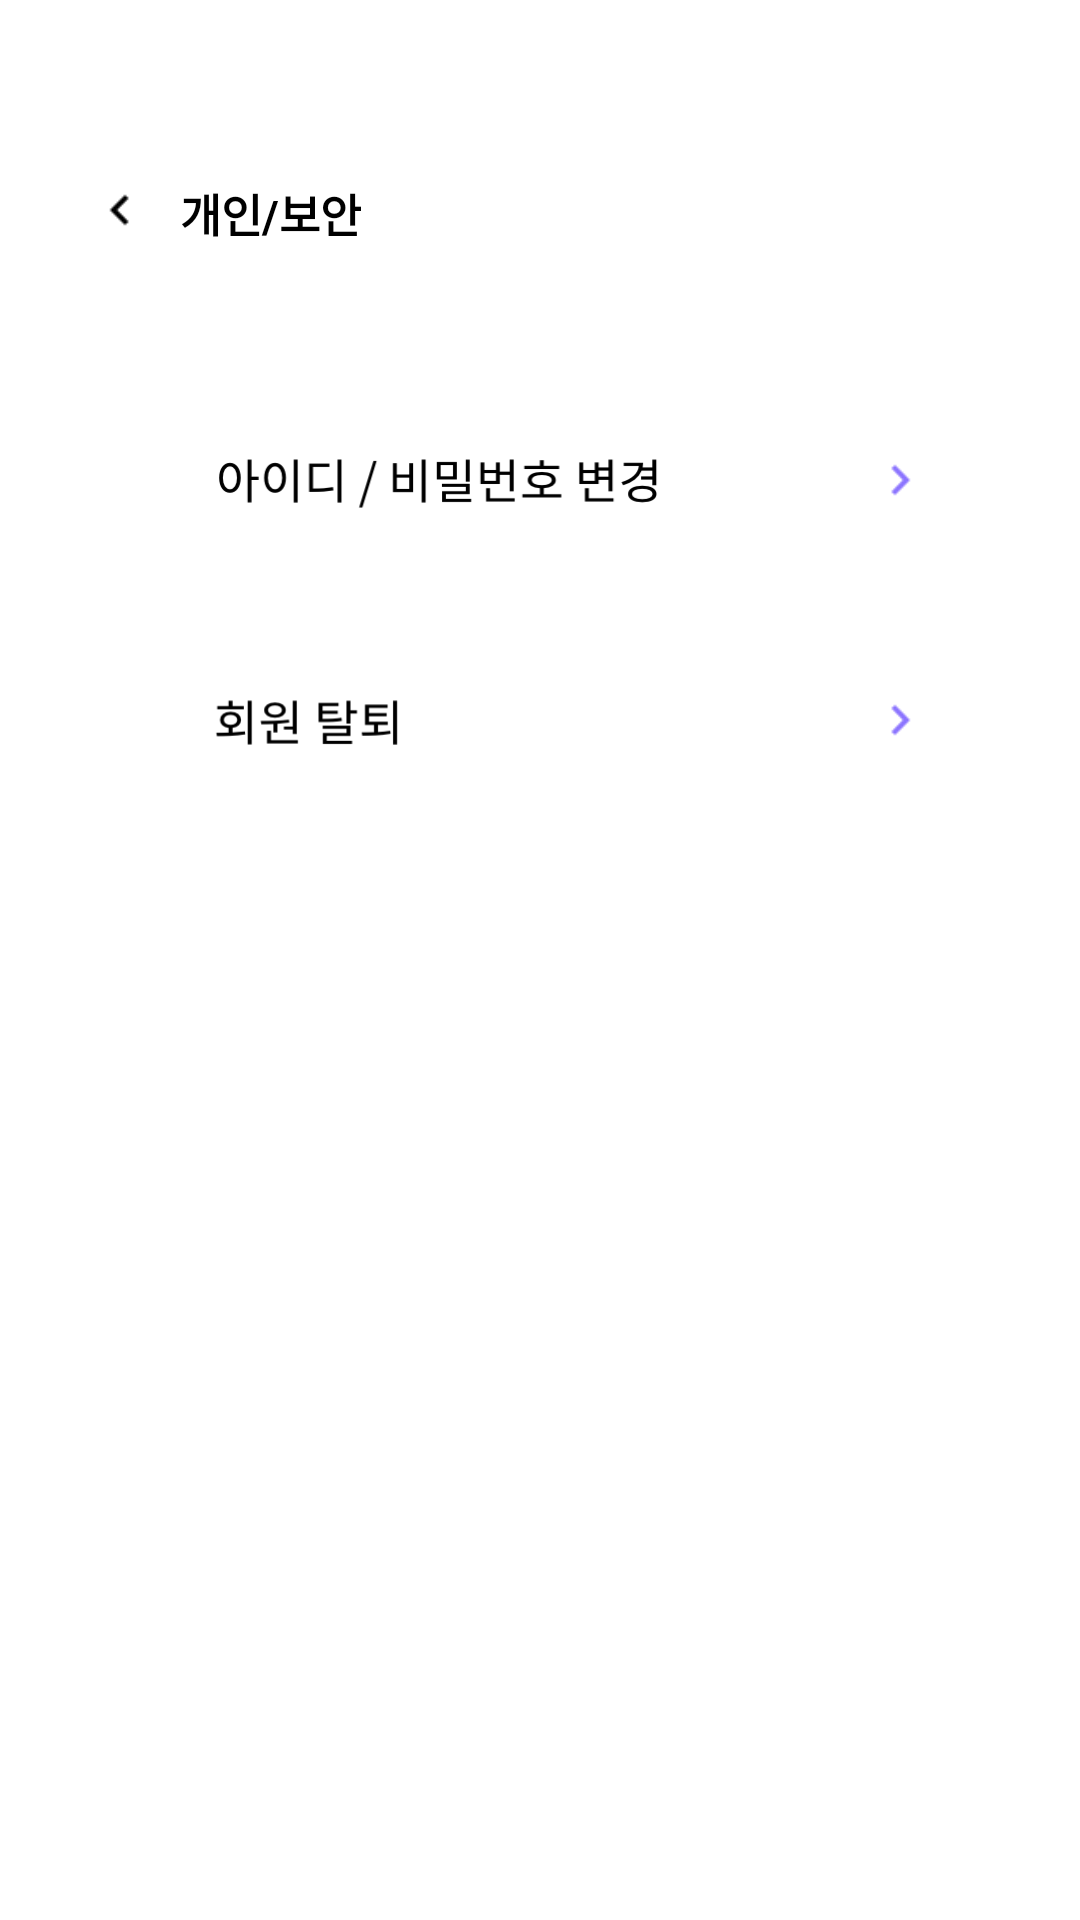

Locate icon controls on the screen. Image size 1080x1920, boxes as (x1, y1, x2, y2).
iconblackleft: (109, 194, 129, 226)
right: (891, 465, 910, 495), (891, 705, 910, 735)
